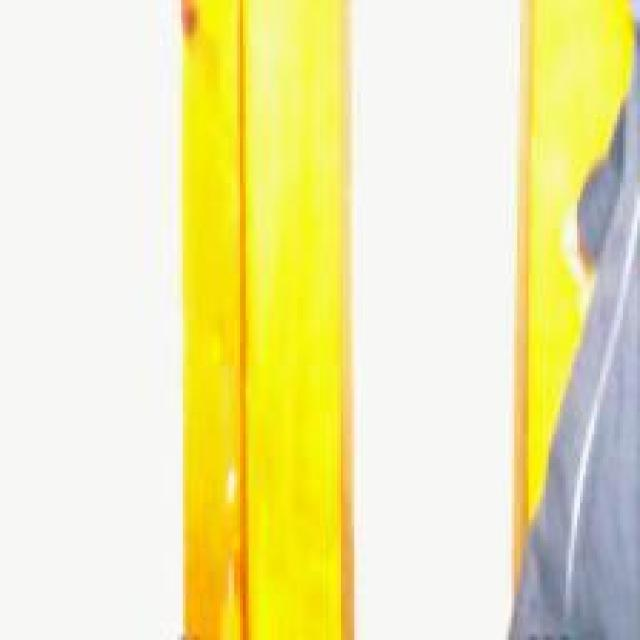other: (190, 0, 339, 623), (536, 30, 563, 390)
